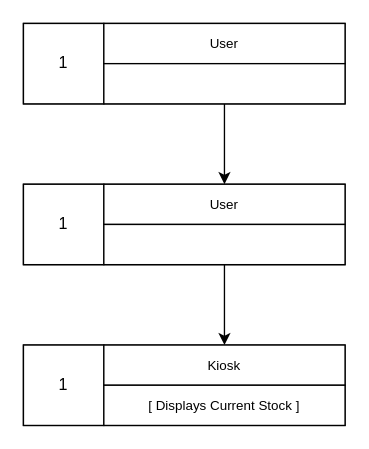
Some shapes in this 369 by 449 pixel diagram are drawn without their labels. Here are the shapes that lost their labels. From the top down, the centre of each, then its label:
pixel 224 83: ?? Arrives at Kiosk ??
pixel 224 244: ?? Browse Current Stock Selected ??
